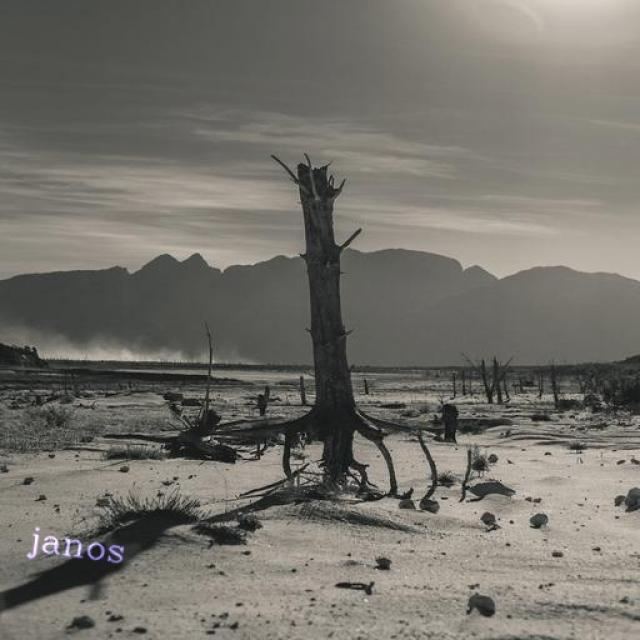watermark: (19, 524, 147, 568)
